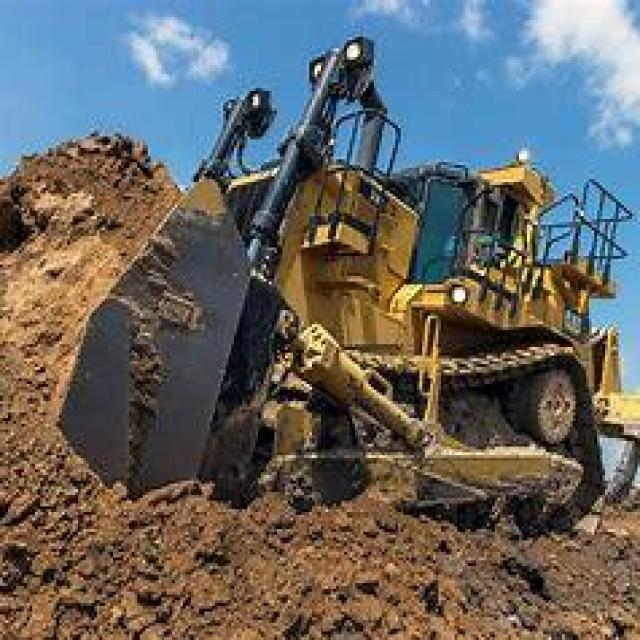Bulldozer: (35, 22, 637, 592)
